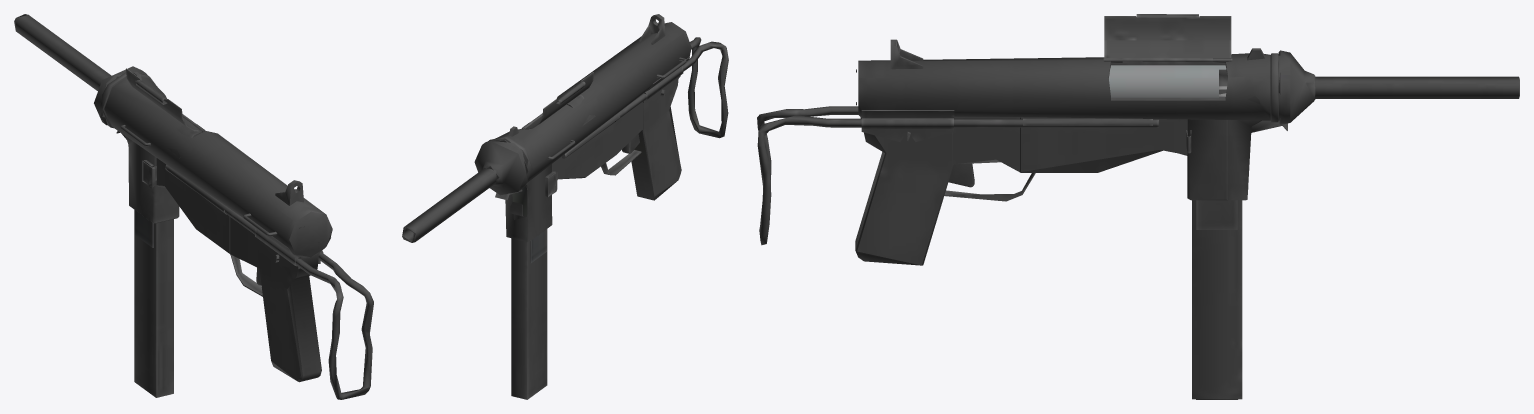
File: 013_GreaseGun_cc0_card.glb
3 views of the same model, side by side, from view 1: azimuth 30°, elevation 25°; view 2: azimuth 150°, elevation 25°; view 3: azimuth 270°, elevation 25° (orthographic). The views are drawn at different scales.
Visible parts, largest first — view 1: Body, Magazine, Stock, EjectorLid; view 2: Body, Magazine, Stock, EjectorLid; view 3: Body, Magazine, EjectorLid, Stock, Bolt.
Part boxes in pixels (x1,y1,x2,y2): Body: [14, 14, 332, 382]; Magazine: [134, 210, 173, 397]; Stock: [165, 164, 373, 399]; EjectorLid: [126, 68, 205, 132]; Body: [402, 14, 691, 242]; Magazine: [511, 229, 547, 399]; Stock: [562, 37, 728, 158]; EjectorLid: [522, 72, 593, 129]; Body: [855, 39, 1519, 265]; Magazine: [1192, 89, 1242, 399]; EjectorLid: [1103, 14, 1232, 61]; Stock: [757, 106, 1159, 245]; Bolt: [1109, 65, 1227, 98].
Bounding box in the file's own units: 0.0635 × 0.334 × 0.6264.
1 material, 1 textured.
